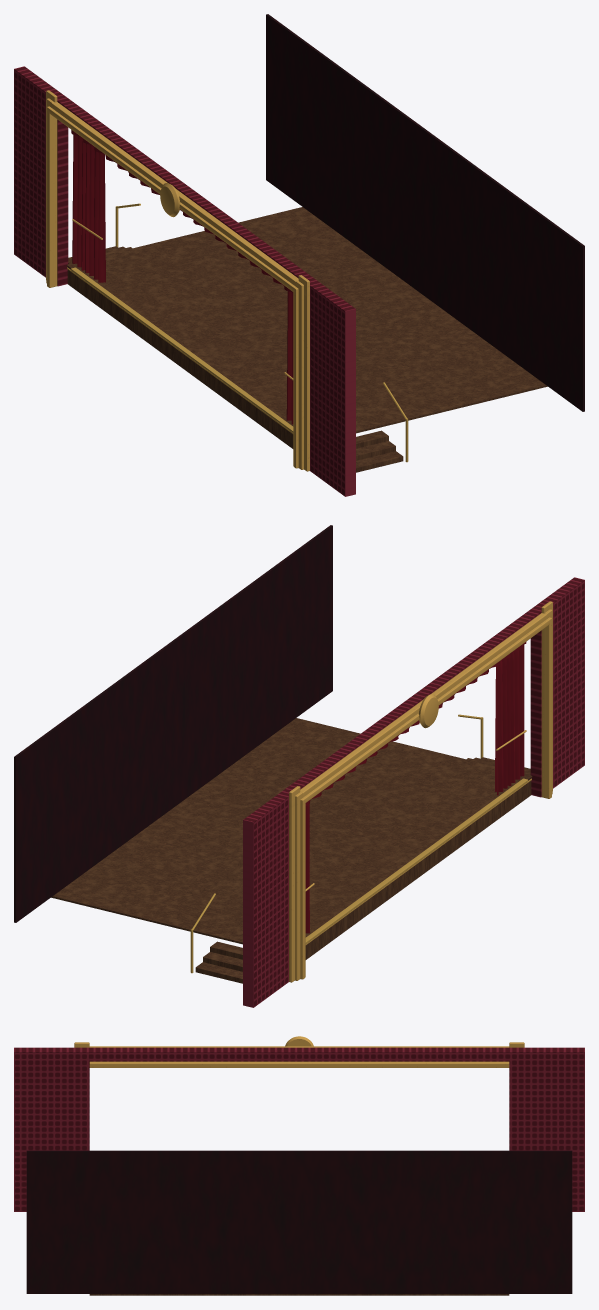
Rendered from SM_CR_Stage.glb.
3 views of the same model, one above another, from view 1: azimuth 30°, elevation 25°; view 2: azimuth 150°, elevation 25°; view 3: azimuth 270°, elevation 25° (orthographic). The views are drawn at different scales.
Visible parts, largest first — view 1: SM_CR_Stage; view 2: SM_CR_Stage; view 3: SM_CR_Stage.
Boxes of the visible parts, <box> form: SM_CR_Stage: <box>14,14,584,496</box>; SM_CR_Stage: <box>14,525,584,1007</box>; SM_CR_Stage: <box>14,1036,584,1295</box>.
Size of the model in its own units: 6.18 by 4.39 by 13.6.
7 materials, 7 textured.
